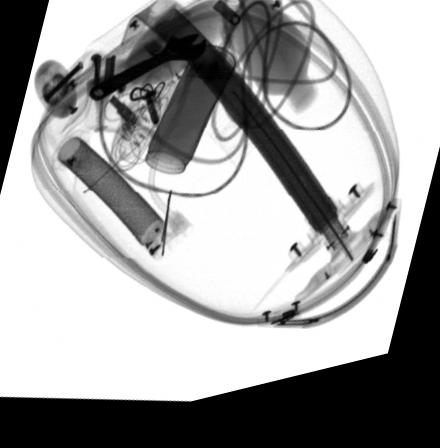Wrench: (89, 43, 207, 105)
